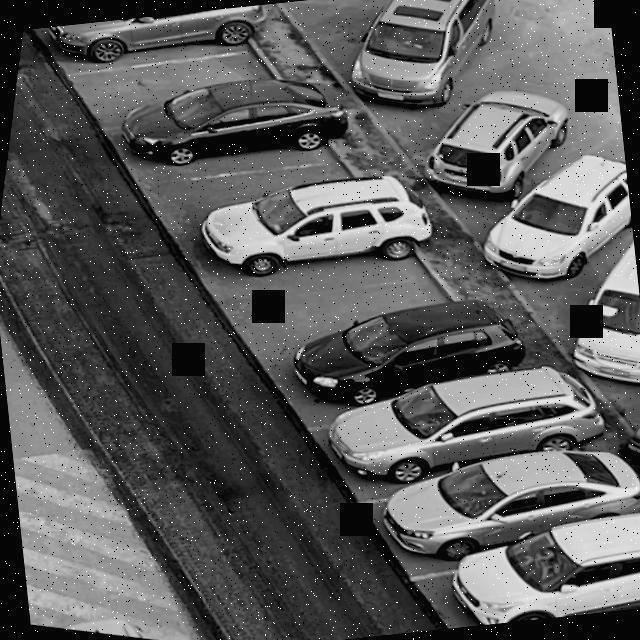space-empty: (197, 214, 501, 416), (131, 114, 398, 290), (52, 3, 292, 170)
space-occupied: (280, 306, 621, 553), (85, 38, 398, 246), (156, 128, 460, 341), (352, 401, 640, 620), (264, 267, 542, 462), (411, 488, 640, 630), (27, 4, 279, 121)
